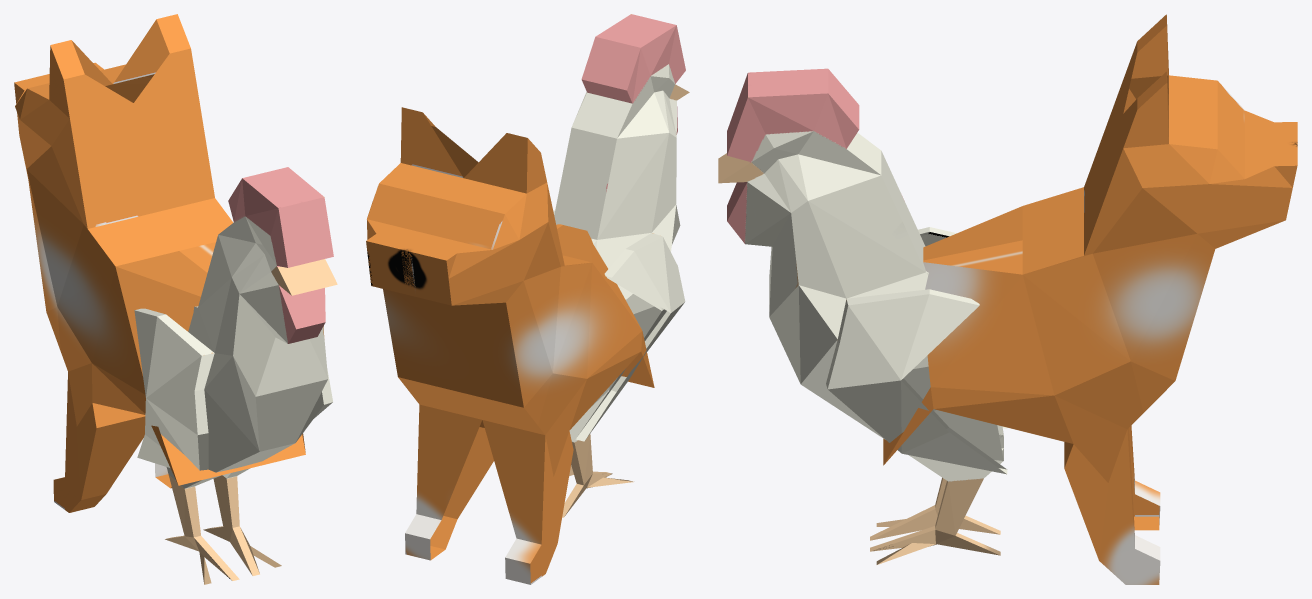
The model's file is chickendog.glb.
3 views of the same model, side by side, from view 1: azimuth 30°, elevation 25°; view 2: azimuth 150°, elevation 25°; view 3: azimuth 270°, elevation 25° (orthographic). The views are drawn at different scales.
Parts seen in each view (by area): view 1: Cube, Chicken; view 2: Cube, Chicken; view 3: Cube, Chicken.
Part boxes in pixels (bbox=[...]): Cube: bbox=[14, 14, 305, 512]; Chicken: bbox=[134, 167, 337, 584]; Cube: bbox=[366, 107, 654, 584]; Chicken: bbox=[553, 14, 689, 517]; Cube: bbox=[883, 14, 1297, 584]; Chicken: bbox=[718, 68, 1007, 564].
Size of the model in its own units: 0.7511 by 1.89 by 1.97.
Materials: 2 (2 with a texture image).
